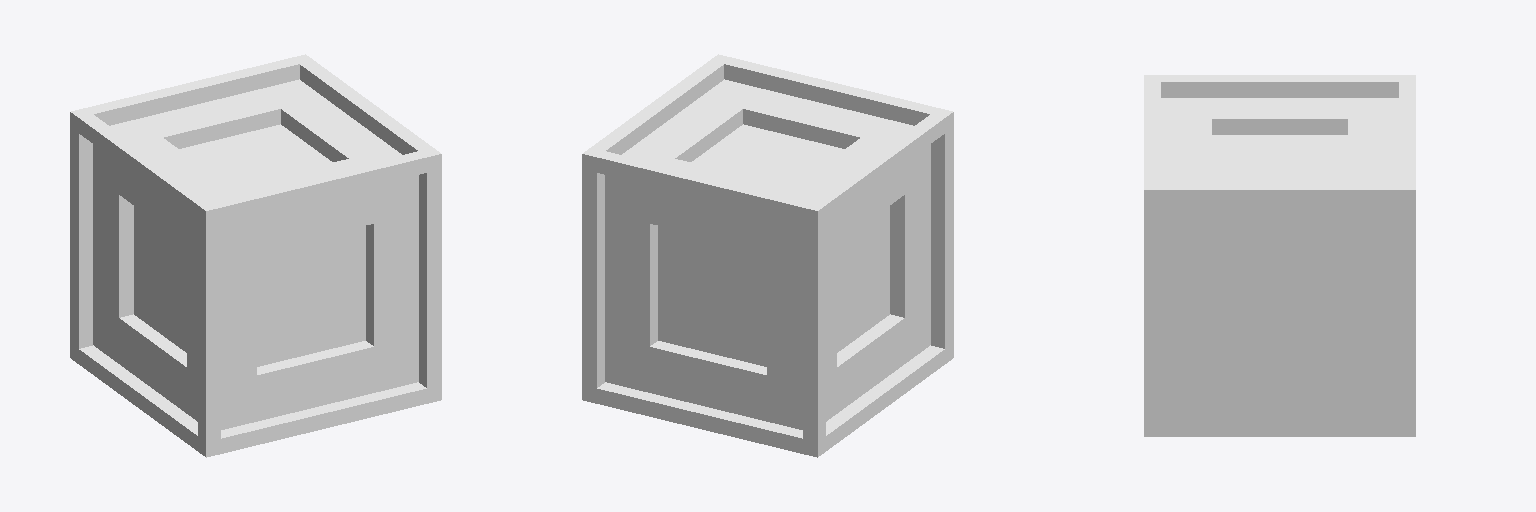
File: casing_item.obj
3 renders of one model, left to right at view 1: azimuth 30°, elevation 25°; view 2: azimuth 150°, elevation 25°; view 3: azimuth 270°, elevation 25°, orthographic.
Parts seen in each view (by area): view 1: casing:casing; view 2: casing:casing; view 3: casing:module.X_NEG_Mesh, casing:casing.
Boxes of the visible parts, <box> form: casing:casing: <box>70,54,441,457</box>; casing:casing: <box>582,54,953,457</box>; casing:module.X_NEG_Mesh: <box>1161,206,1398,420</box>; casing:casing: <box>1144,75,1415,436</box>.
Bounding box in the file's own units: 1 × 1 × 1.